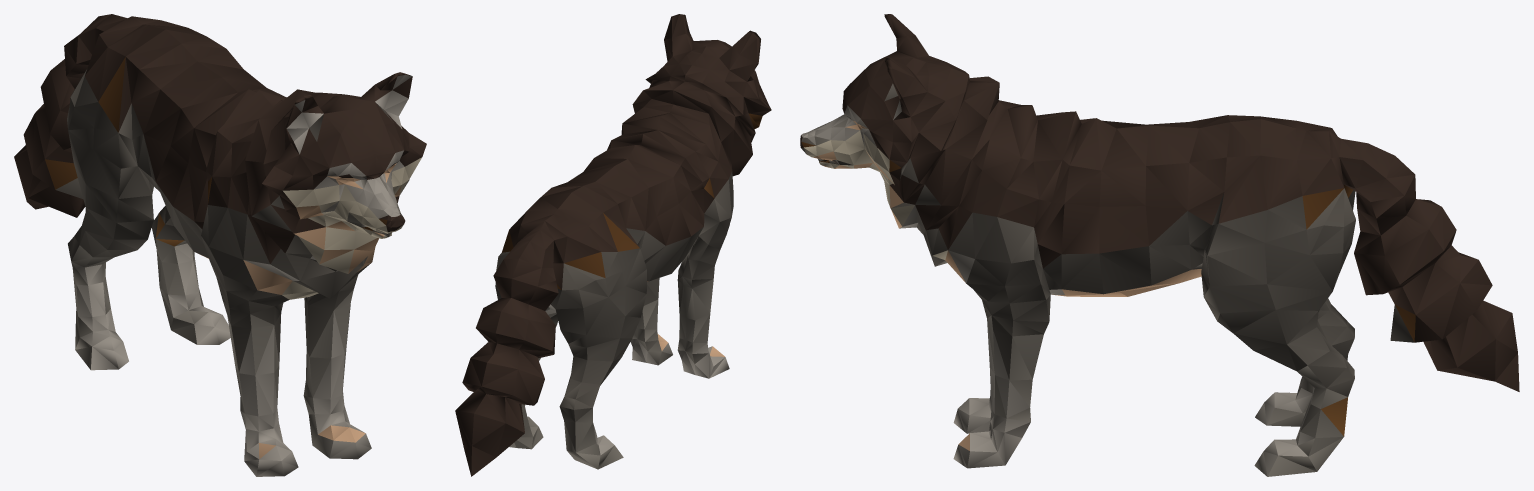
File: unit.wolf.glb
3 renders of one model, left to right at view 1: azimuth 30°, elevation 25°; view 2: azimuth 150°, elevation 25°; view 3: azimuth 270°, elevation 25°, orthographic. The views are drawn at different scales.
Visible parts, largest first — view 1: asset; view 2: asset; view 3: asset.
Part boxes in pixels (x1,y1,x2,y2): asset: (14,14,426,476); asset: (455,14,771,476); asset: (800,14,1519,476).
Bounding box in the file's own units: 0.2561 × 0.6 × 0.9656.
